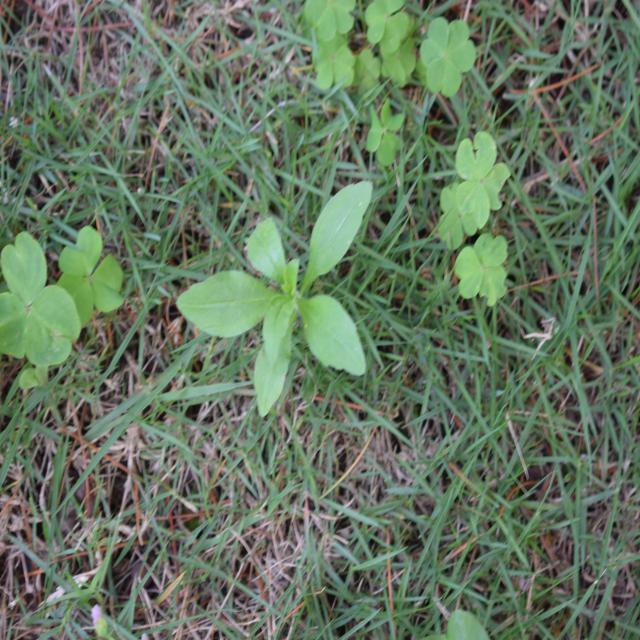horseweed: (153, 156, 392, 412)
